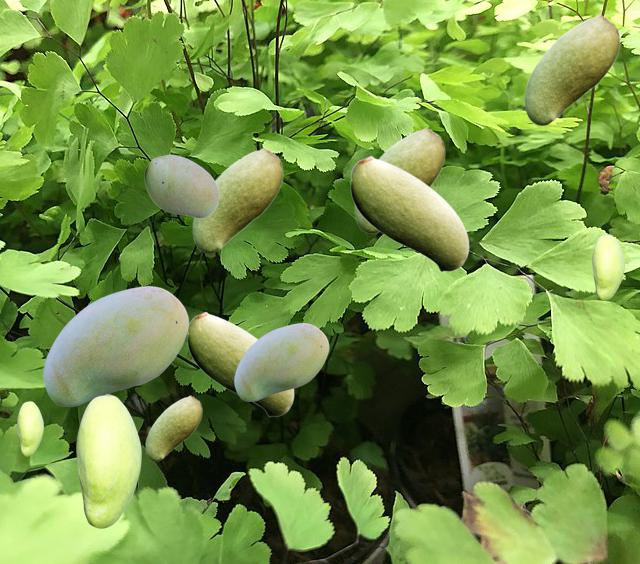green_mango: (43, 286, 188, 405), (350, 155, 468, 271), (187, 311, 293, 416), (524, 14, 619, 124), (354, 127, 444, 232), (192, 147, 282, 252), (76, 394, 140, 527), (234, 323, 328, 400), (144, 154, 218, 217), (145, 395, 201, 460), (592, 234, 623, 299), (17, 401, 42, 455)
